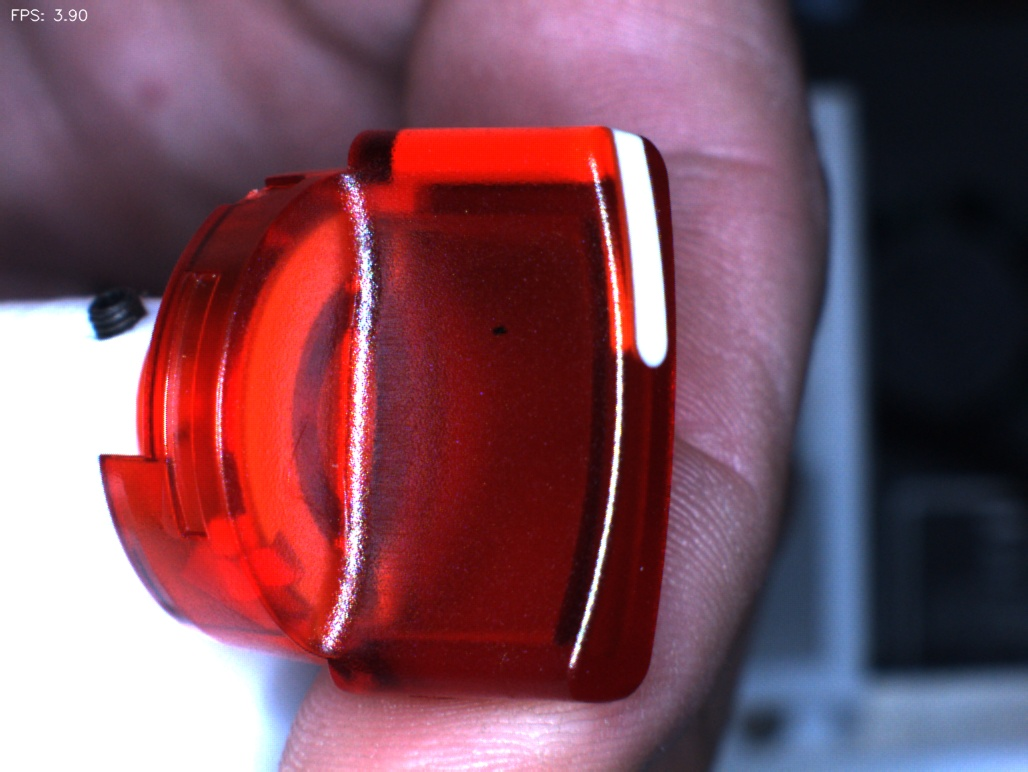PointNoir: (454, 286, 540, 381)
